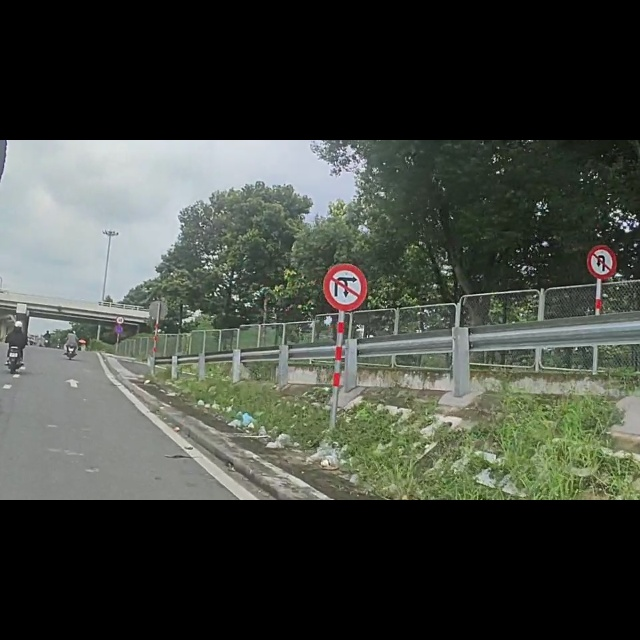bien_cam: (323, 218, 368, 307), (586, 186, 617, 249), (116, 312, 125, 327), (114, 328, 123, 343)
